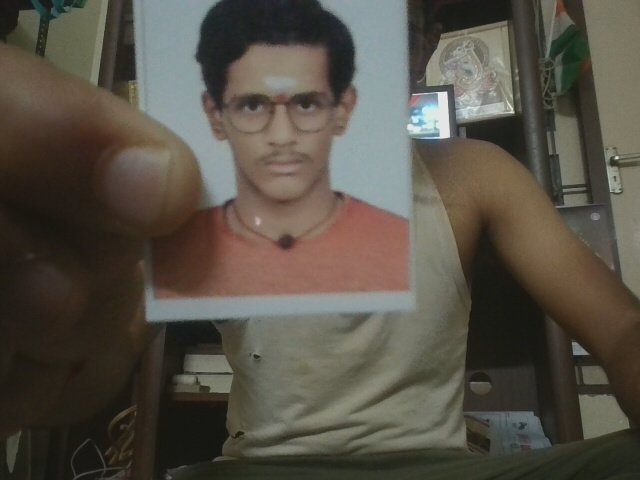fake: (199, 43, 364, 208)
